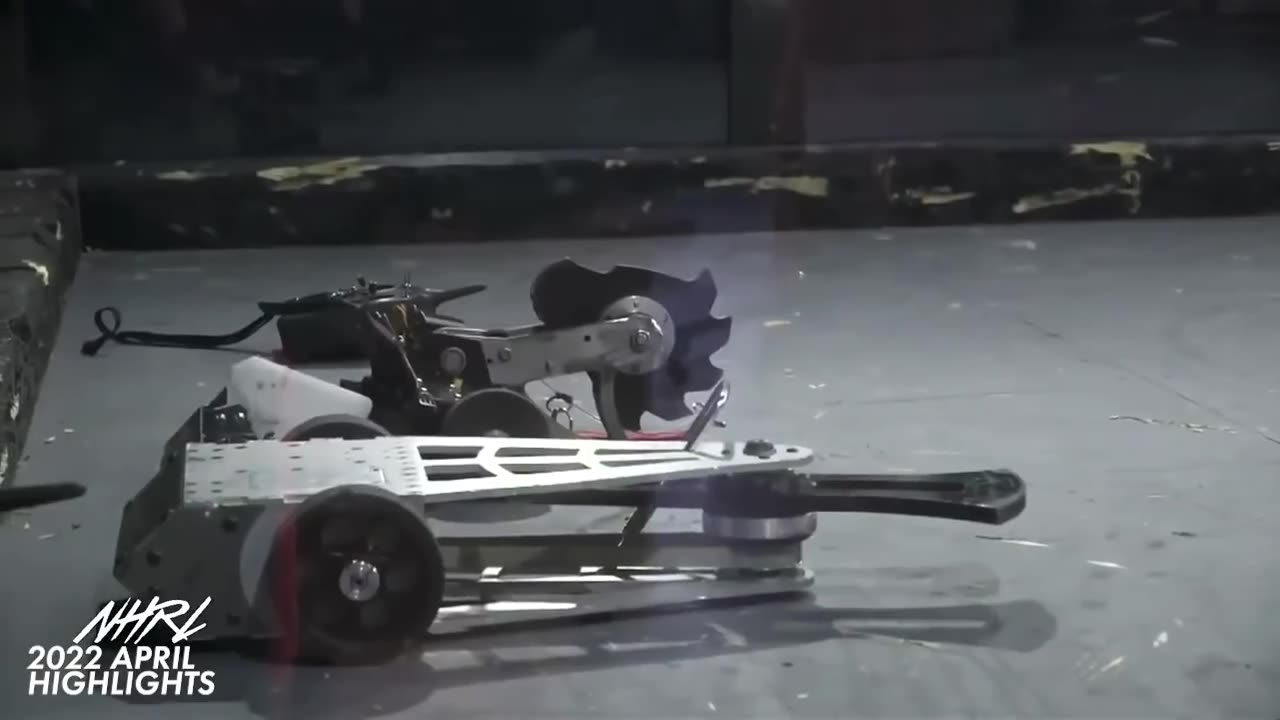combatbot: (112, 414, 1026, 662), (161, 254, 735, 472)
